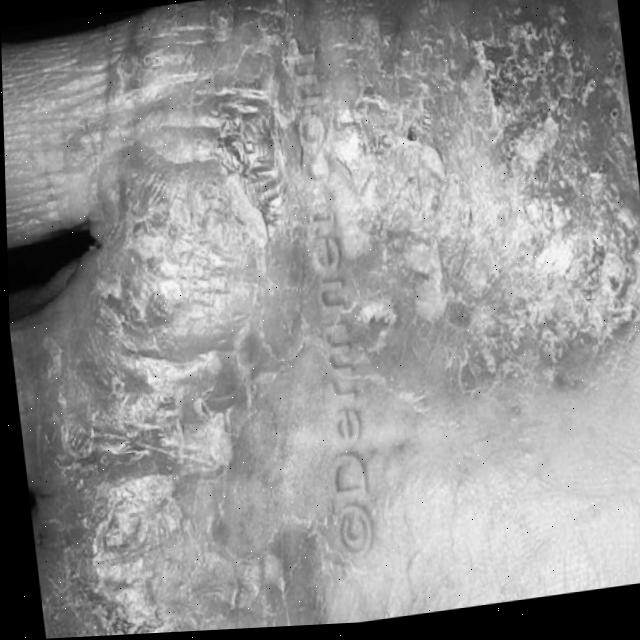Eczema: (16, 9, 640, 639)
